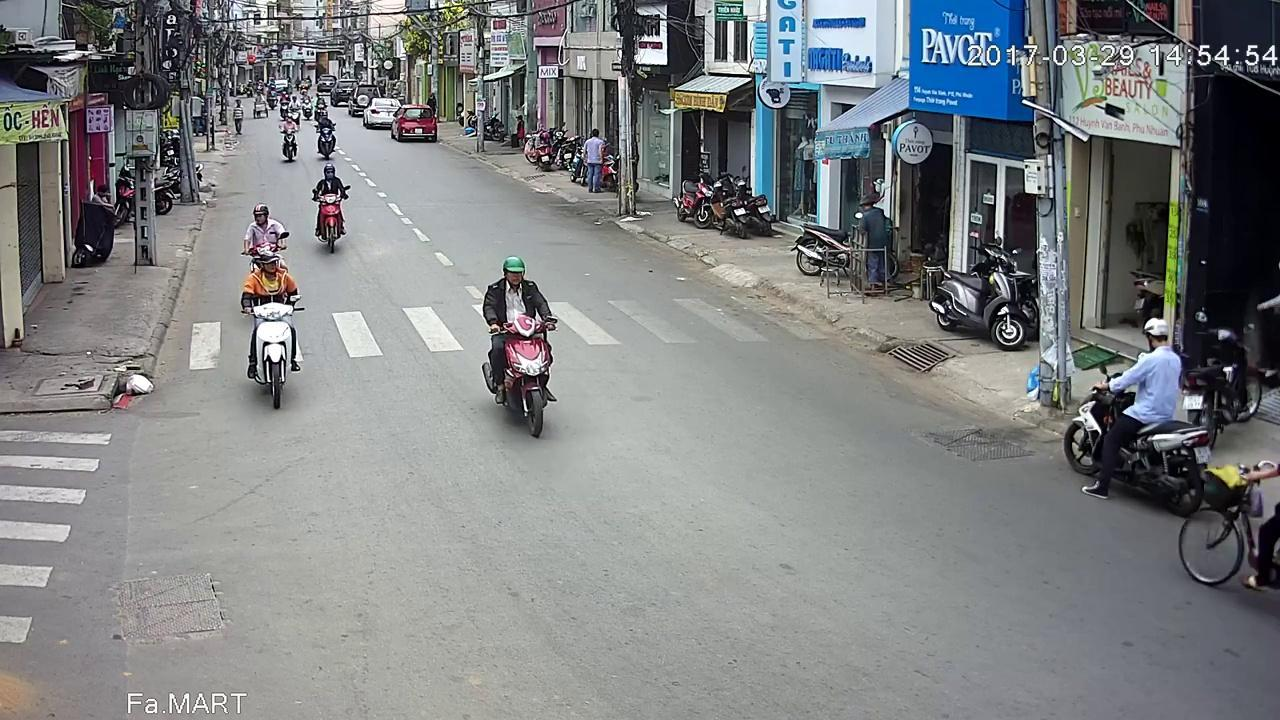xe dap: (1176, 457, 1280, 585)
xe hoi: (392, 103, 440, 142)
xe may: (1062, 315, 1212, 514), (483, 248, 560, 430), (238, 246, 303, 405), (307, 163, 348, 252), (243, 204, 288, 261), (312, 112, 338, 161), (279, 114, 300, 163)
